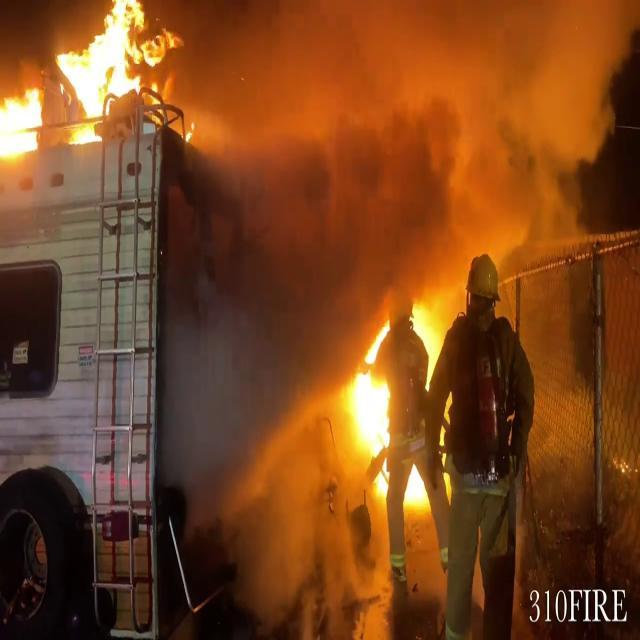Fire: (52, 0, 178, 156), (344, 318, 401, 497), (0, 80, 48, 166)
Smoke: (154, 0, 636, 301), (162, 117, 344, 611)
